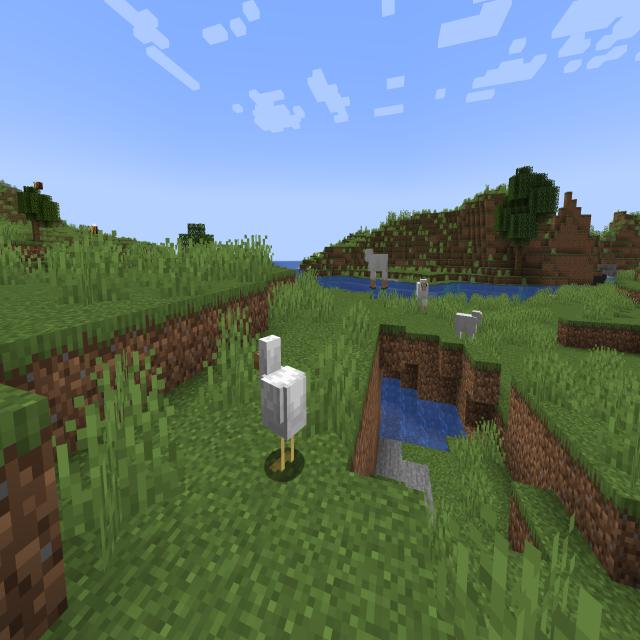bee: (86, 222, 102, 242), (30, 178, 46, 194)
chicken: (247, 324, 311, 488)
